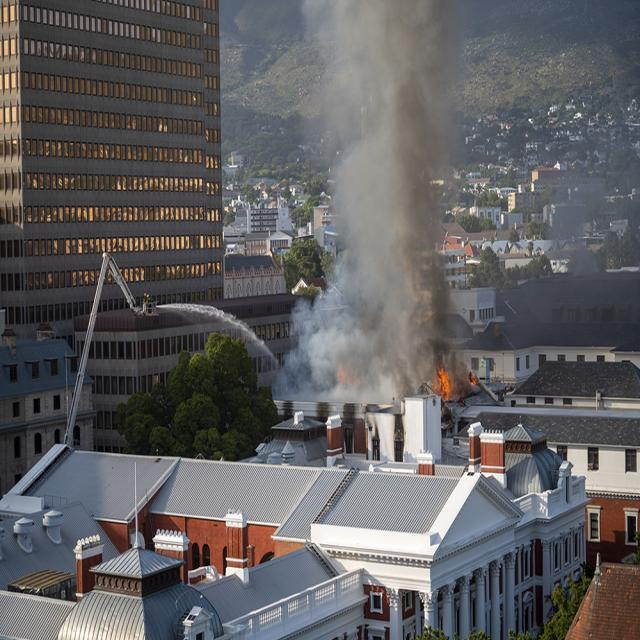Fire: (430, 354, 476, 404)
Smoke: (272, 1, 440, 398)
